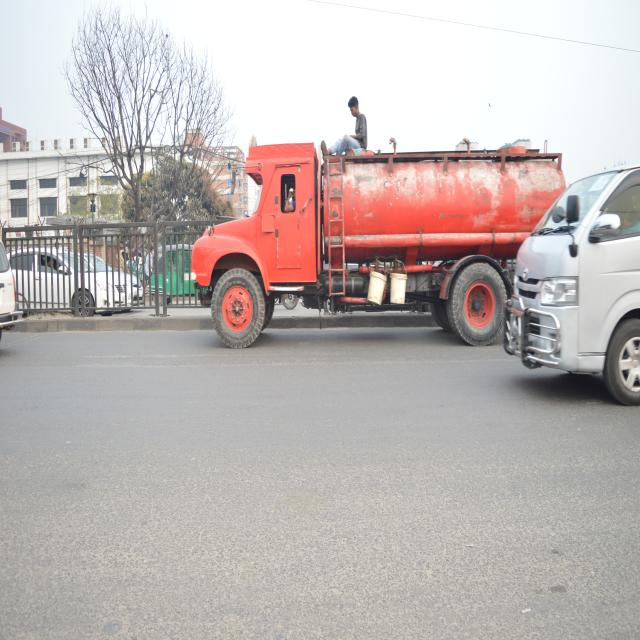car: (13, 244, 133, 324)
microbus: (508, 166, 640, 394)
truck: (188, 121, 508, 371)
